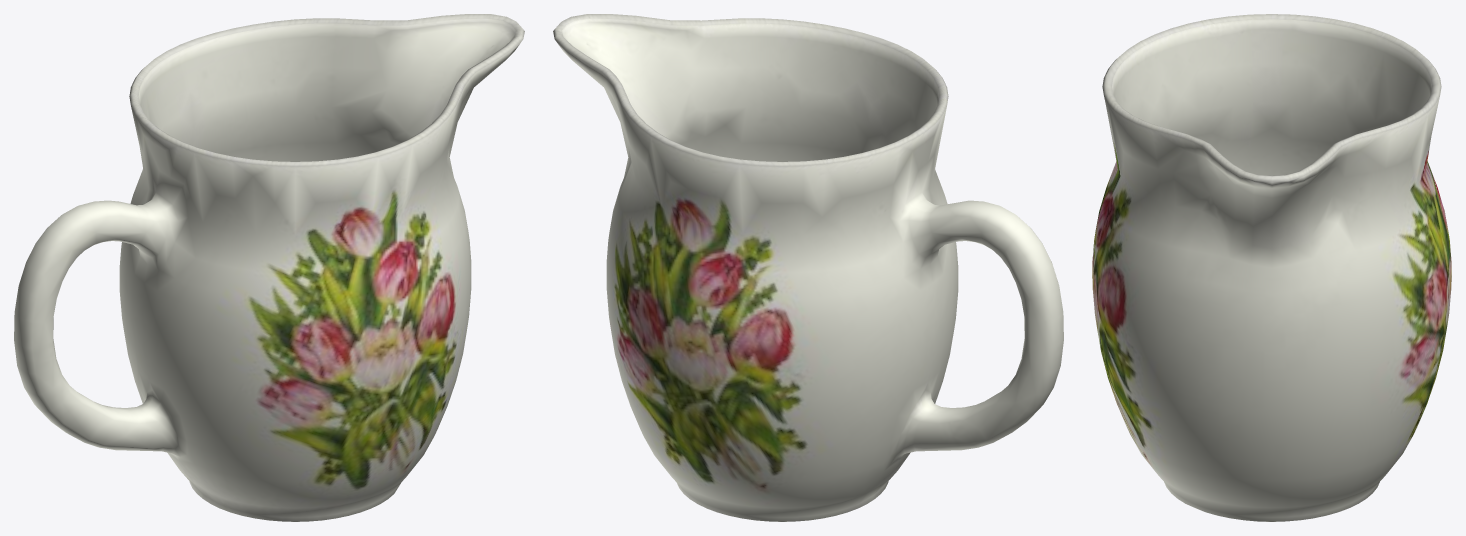
File: jug_01.glb
3 views of the same model, side by side, from view 1: azimuth 30°, elevation 25°; view 2: azimuth 150°, elevation 25°; view 3: azimuth 270°, elevation 25° (orthographic). The views are drawn at different scales.
Visible parts, largest first — view 1: jug_01; view 2: jug_01; view 3: jug_01.
Part boxes in pixels (<box>): jug_01: <box>14,14,524,521</box>; jug_01: <box>553,14,1063,521</box>; jug_01: <box>1092,14,1451,521</box>.
Bounding box in the file's own units: 0.2753 × 0.2113 × 0.1675.
1 material, 1 textured.
